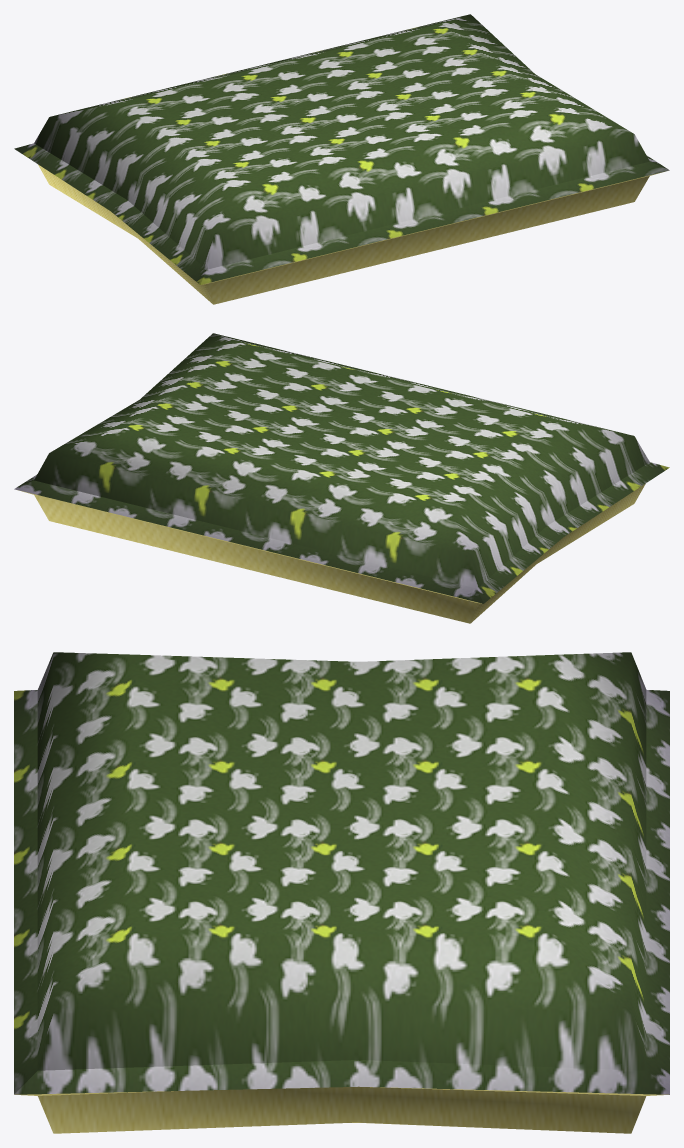
File: Childrens_Pillow_A.FBX
The picture shows the model from 3 angles, top to bottom: view 1: azimuth 30°, elevation 25°; view 2: azimuth 150°, elevation 25°; view 3: azimuth 270°, elevation 25°; orthographic projection. The views are drawn at different scales.
Visible parts, largest first — view 1: Pillow; view 2: Pillow; view 3: Pillow.
Boxes of the visible parts, box(x1,y1,x2,y2) form: Pillow: box(14, 14, 669, 304); Pillow: box(14, 333, 669, 623); Pillow: box(14, 652, 669, 1133).
Size of the model in its own units: 194 by 41.64 by 133.
